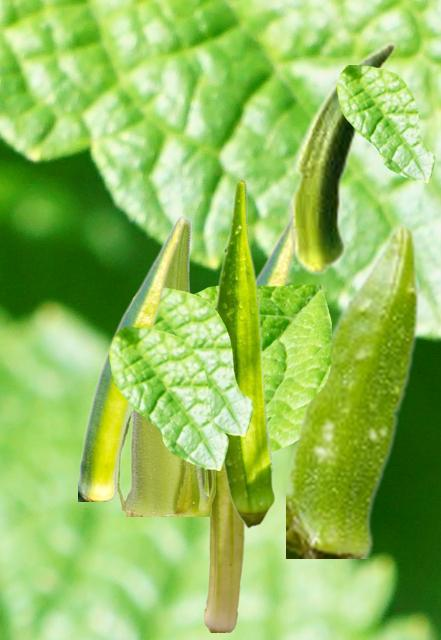okra: (286, 220, 420, 557), (78, 214, 184, 500), (117, 218, 214, 515), (205, 218, 294, 518), (287, 41, 396, 275), (213, 178, 275, 528), (203, 469, 244, 631)
